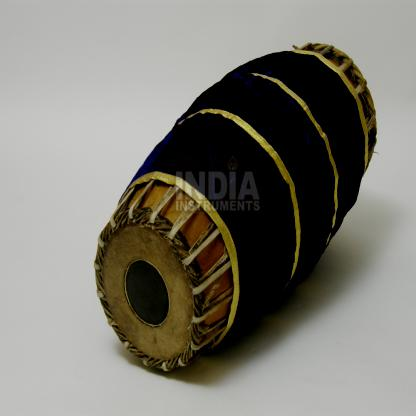Mridangam: (72, 9, 387, 393)
